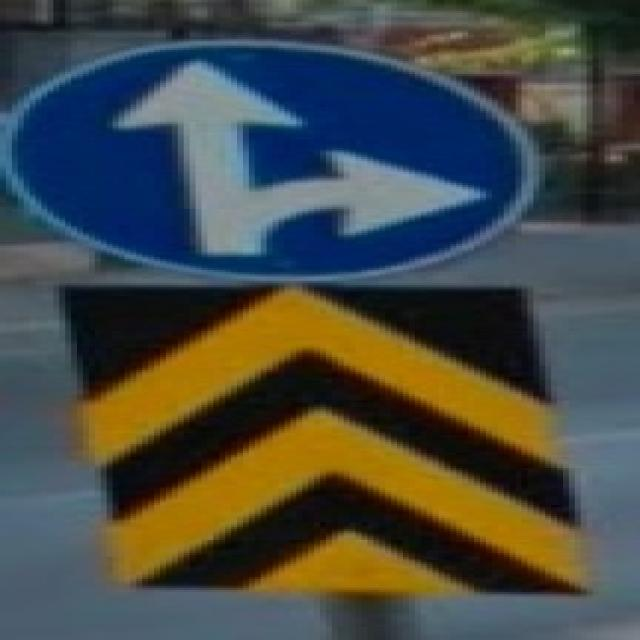Straight or Right: (16, 49, 525, 284)
